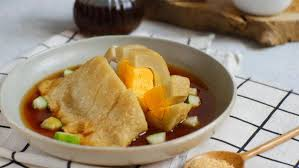Pempek kapal selam: (36, 44, 195, 151)
